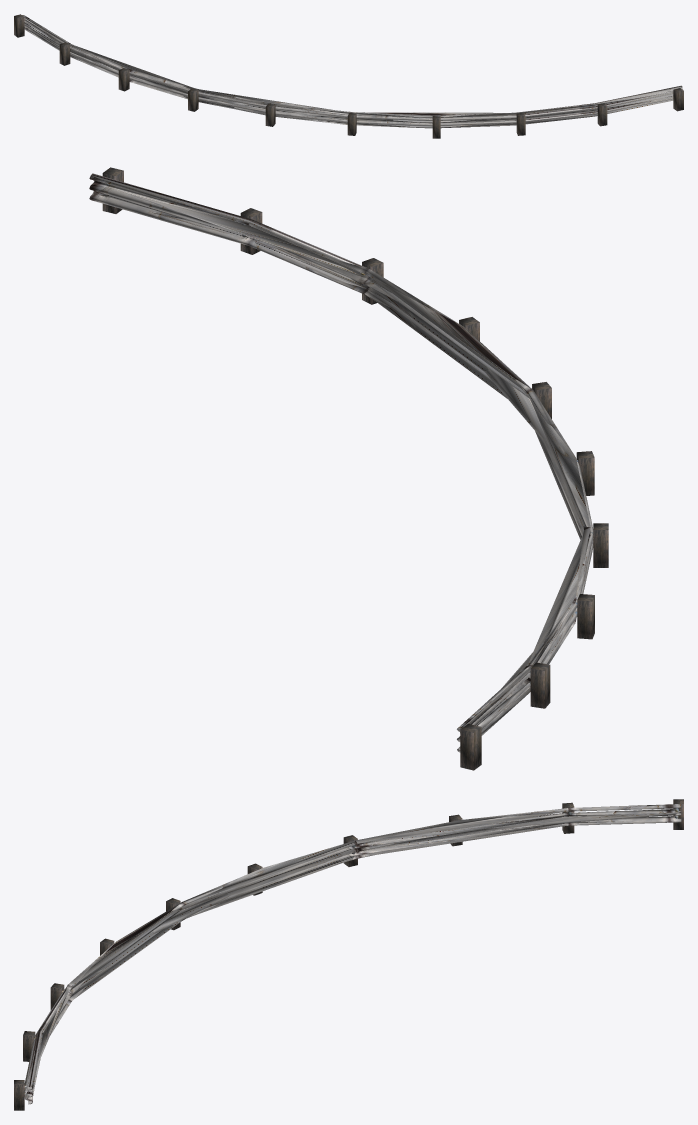
File: roadrail_curve_2.fbx
The picture shows the model from 3 angles, top to bottom: view 1: azimuth 30°, elevation 25°; view 2: azimuth 150°, elevation 25°; view 3: azimuth 270°, elevation 25°; orthographic projection. The views are drawn at different scales.
Parts seen in each view (by area): view 1: rail0, posts0; view 2: rail0, posts0; view 3: rail0, posts0.
Part boxes in pixels (x1,y1,x2,y2): rail0: (22, 15, 682, 128); posts0: (14, 14, 683, 138); rail0: (89, 173, 593, 752); posts0: (102, 167, 608, 770); rail0: (24, 804, 681, 1104); posts0: (14, 799, 683, 1110).
Bounding box in the file's own units: 40.22 × 1.7 × 39.6.
